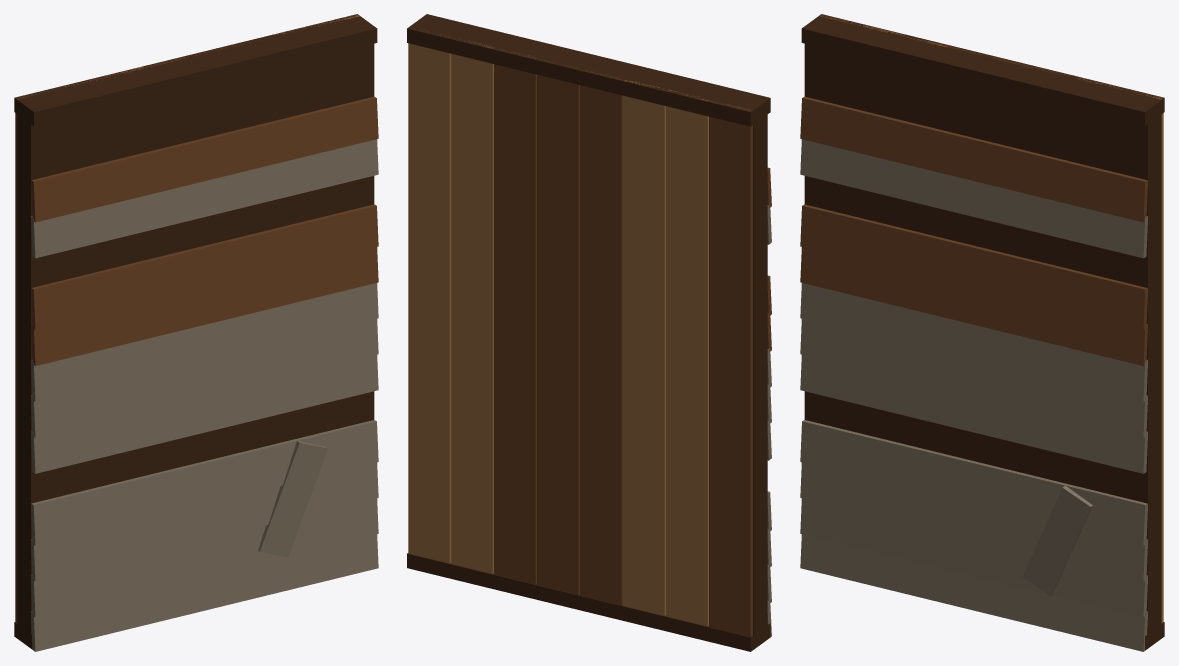
File: SM_Wall_Plank_Damaged.obj
The picture shows the model from 3 angles, left to right: view 1: azimuth 30°, elevation 25°; view 2: azimuth 150°, elevation 25°; view 3: azimuth 330°, elevation 25°; orthographic projection.
Visible parts, largest first — view 1: SM_Wall_Plank_Damaged; view 2: SM_Wall_Plank_Damaged; view 3: SM_Wall_Plank_Damaged.
Boxes of the visible parts, x1,y1,x2,y2 form: SM_Wall_Plank_Damaged: (14, 14, 378, 651); SM_Wall_Plank_Damaged: (407, 14, 771, 651); SM_Wall_Plank_Damaged: (800, 14, 1164, 651).
Bounding box in the file's own units: 2 × 3 × 0.225.
